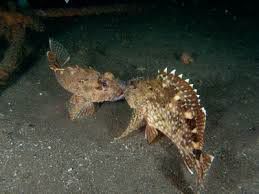kasago: (124, 72, 215, 180), (34, 39, 130, 122)
